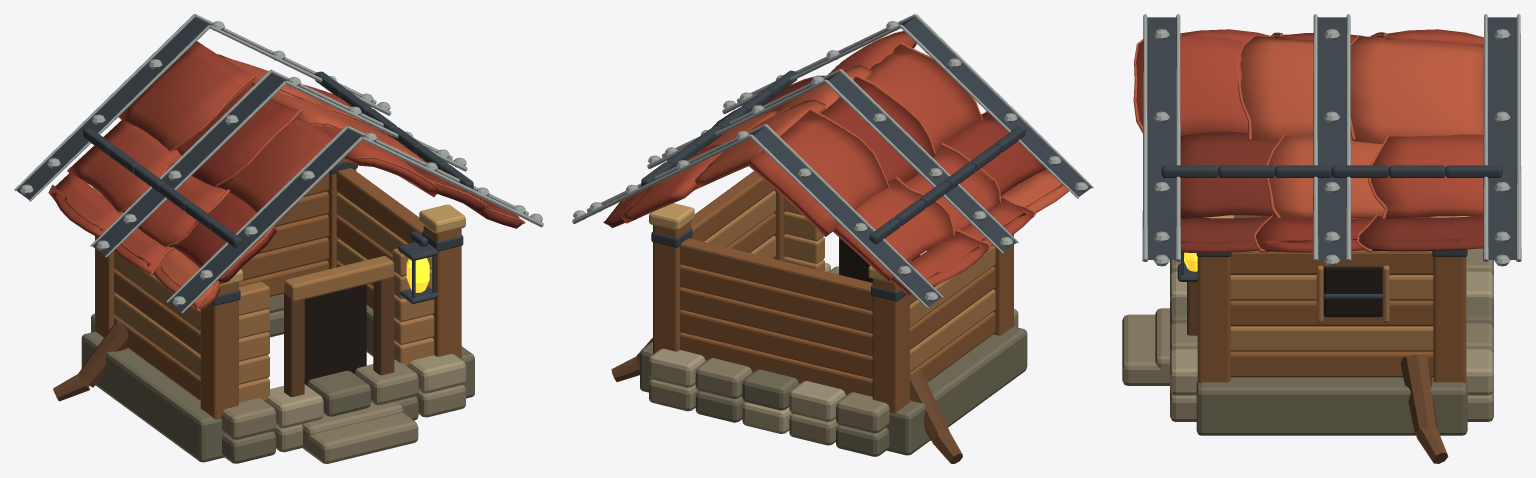
The model's file is source.glb.
The picture shows the model from 3 angles, left to right: view 1: azimuth 30°, elevation 25°; view 2: azimuth 150°, elevation 25°; view 3: azimuth 270°, elevation 25°; orthographic projection. The views are drawn at different scales.
Visible parts, largest first — view 1: house; view 2: house; view 3: house.
Boxes of the visible parts, <box> form: house: <box>14,14,543,463</box>; house: <box>572,14,1093,463</box>; house: <box>1122,14,1521,463</box>.
Bounding box in the file's own units: 4.05 × 3.34 × 3.39.
